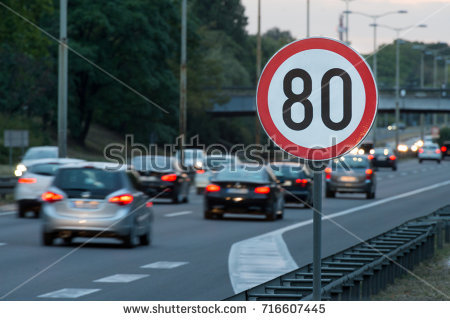Speed_limit_80km: (256, 36, 377, 161)
